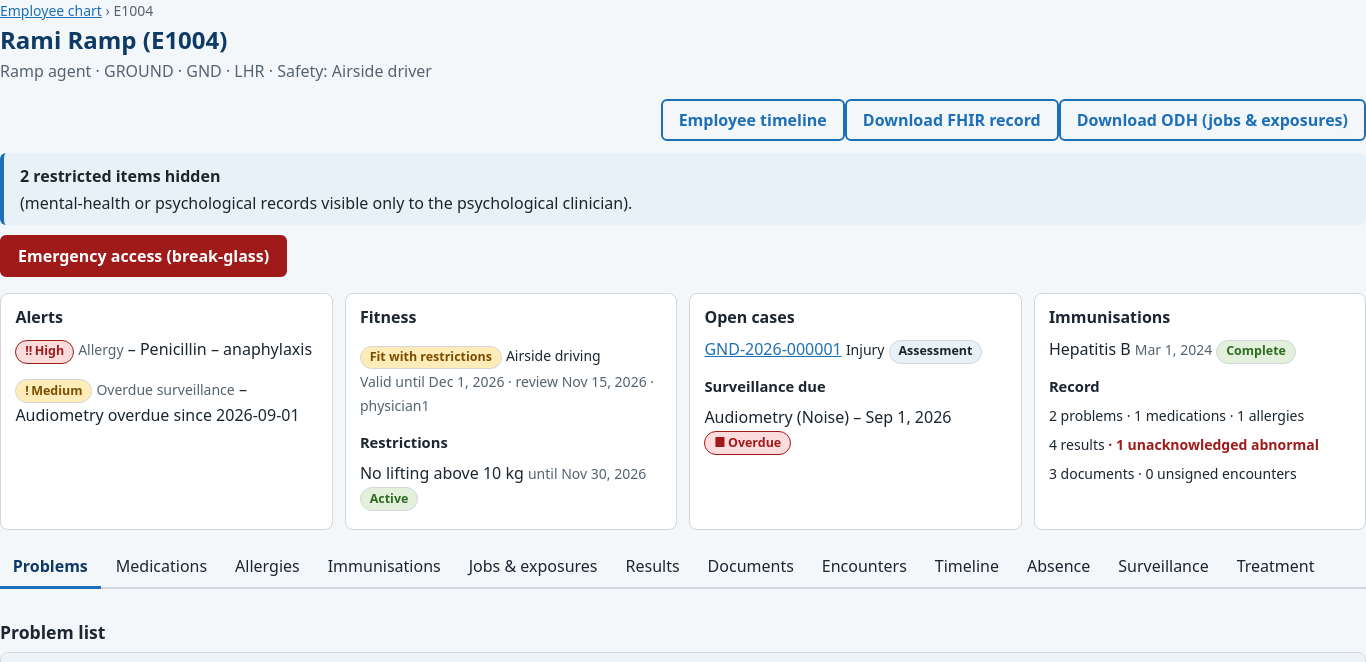
Scenario: ChartScreen › shows "N restricted items hidden" and runs the break-glass flow (≥ 20 chars, DPO warning, reload)
Expected: the text "2 restricted items hidden" is shown, [20,165,220,187]
Click the button "Emergency access (break-glass)" at (144, 256), box [0,235,287,277]
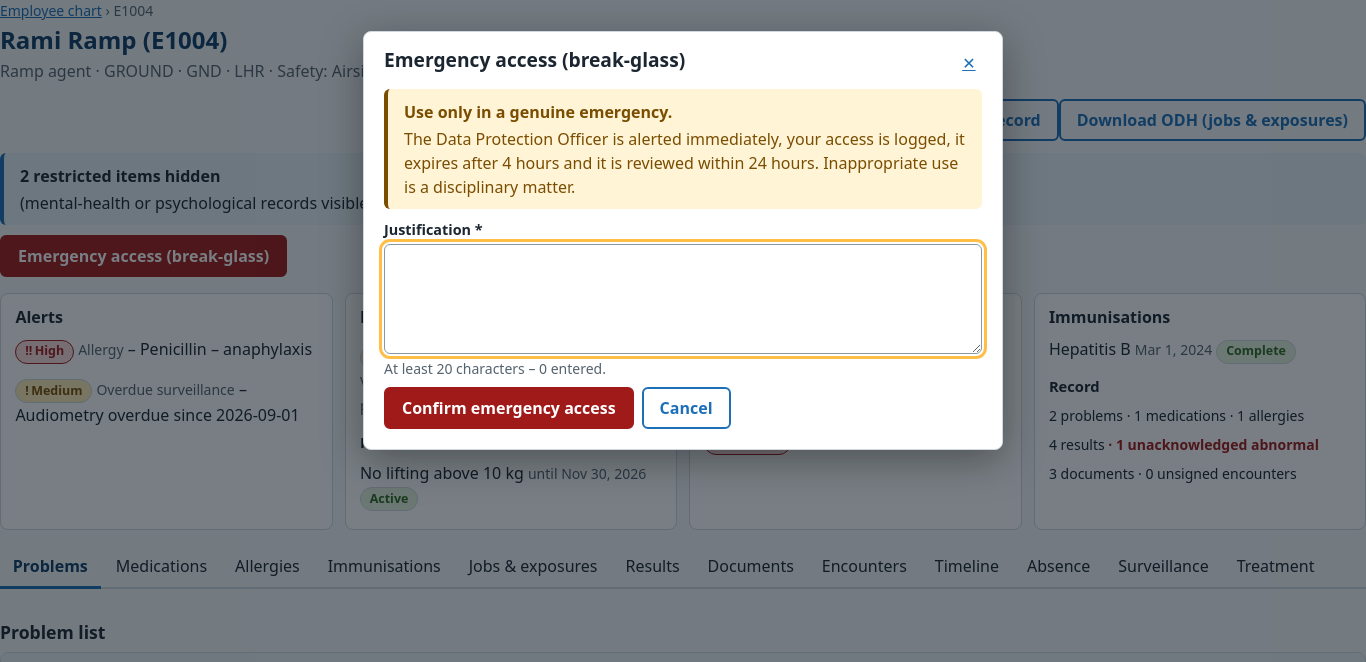
Expected: the text "Data Protection Officer is alerted immediately" is shown, [404,128,965,198]
Type "too short" into the text box labelled "Justification *" at (683, 299), box [384,244,982,354]
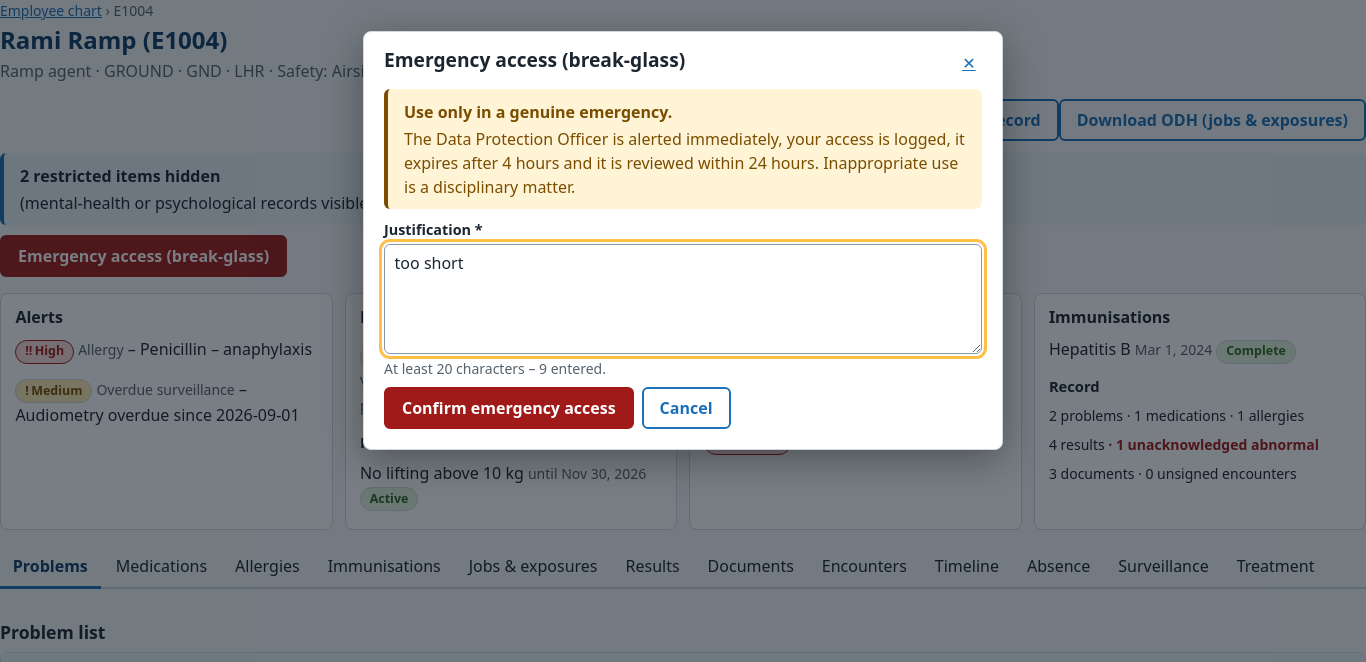
Click the button "Confirm emergency access" at (509, 408), box [384,387,634,429]
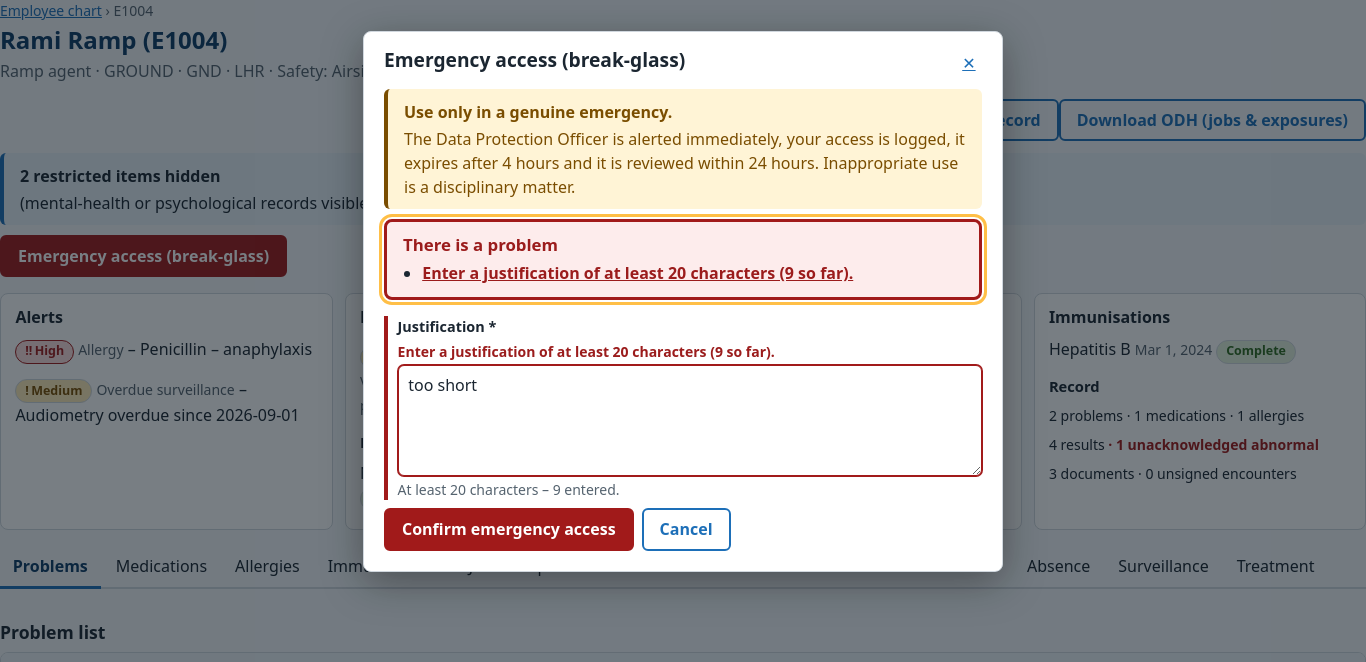
Expected: the message "There is a problem Enter a justification of at least 20 characters (9 so far)." is shown, [384,219,982,300]
Replace the text in the text box labelled "Justification *" with "Unconscious in clinic, need medication history" at (690, 421), box [398,365,982,476]
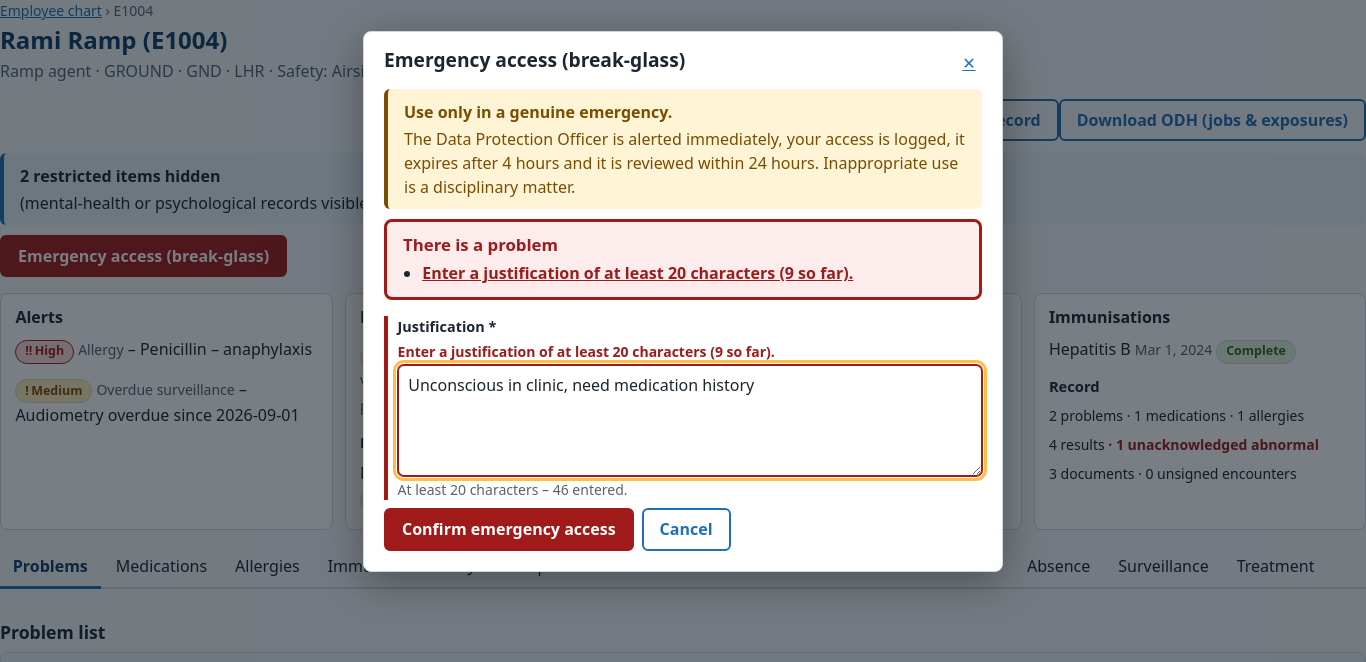
Click the button "Confirm emergency access" at (509, 529), box [384,508,634,551]
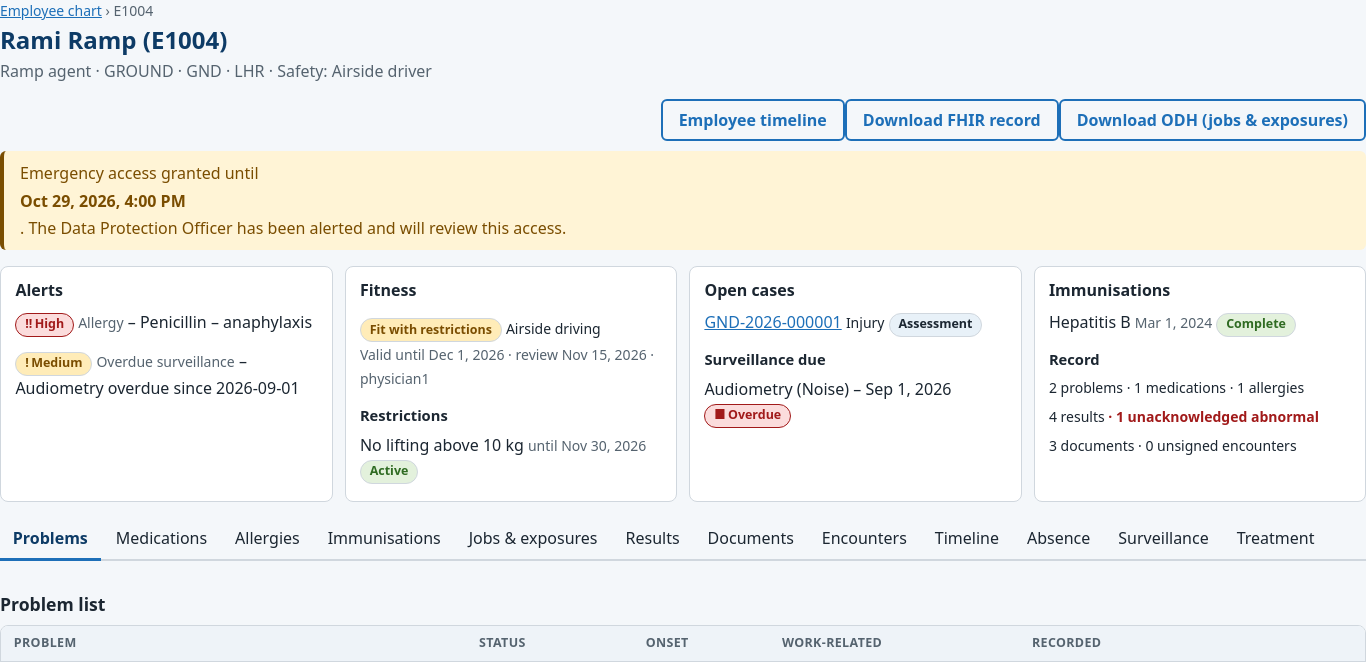
Expected: the text "Emergency access granted until" is shown, [20,162,258,184]
Expected: the dialog is gone
